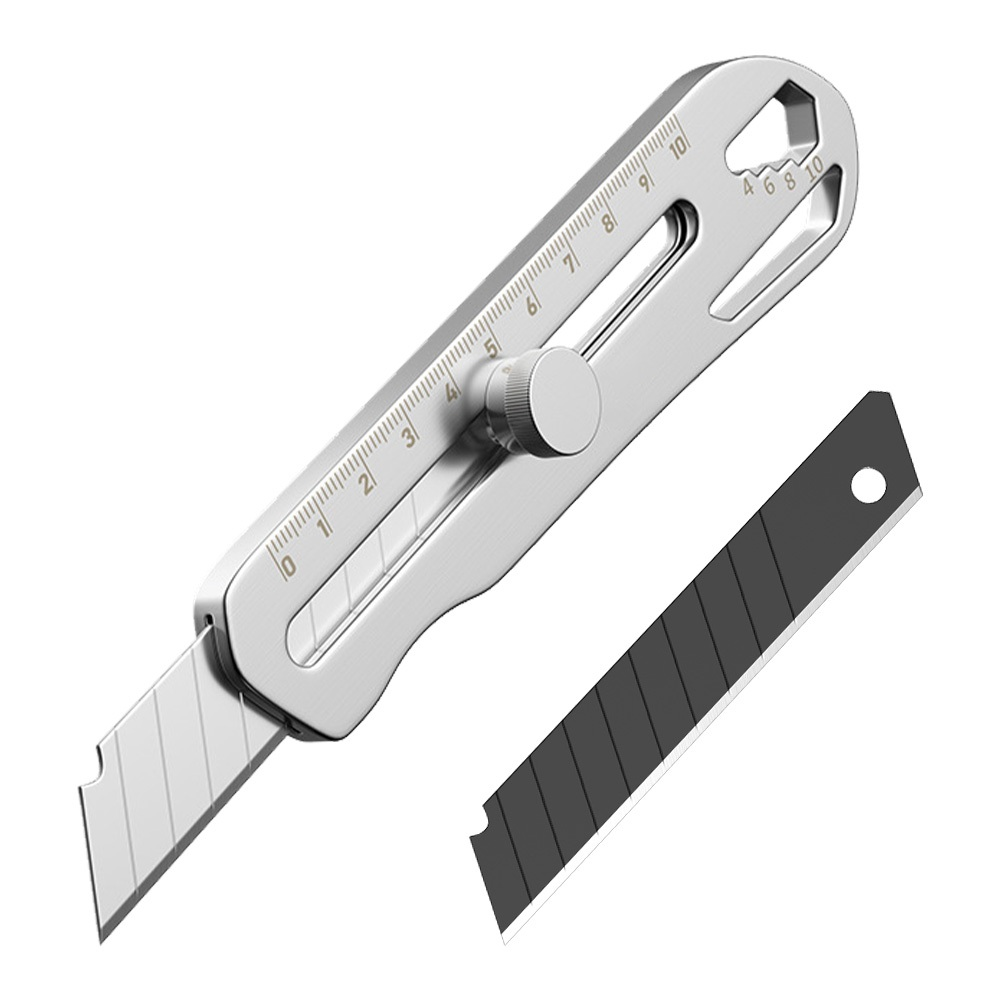cutter: (75, 56, 863, 950), (472, 390, 922, 948)
